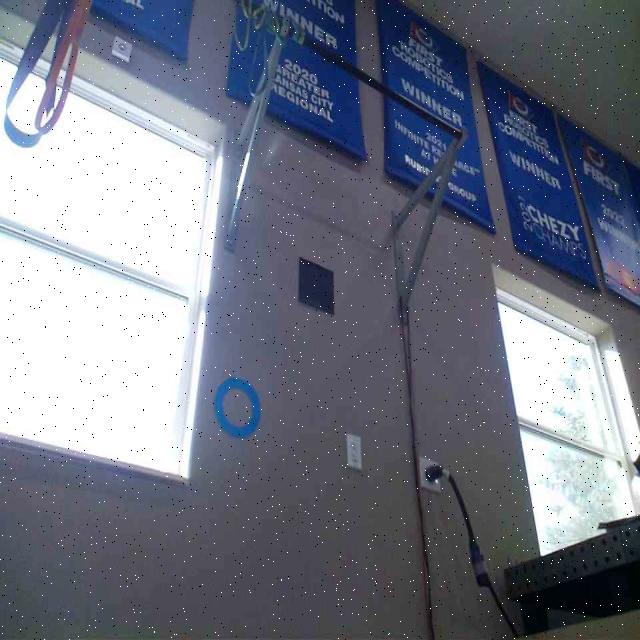ring_blue: (214, 375, 261, 437)
square_black: (299, 256, 334, 315)
